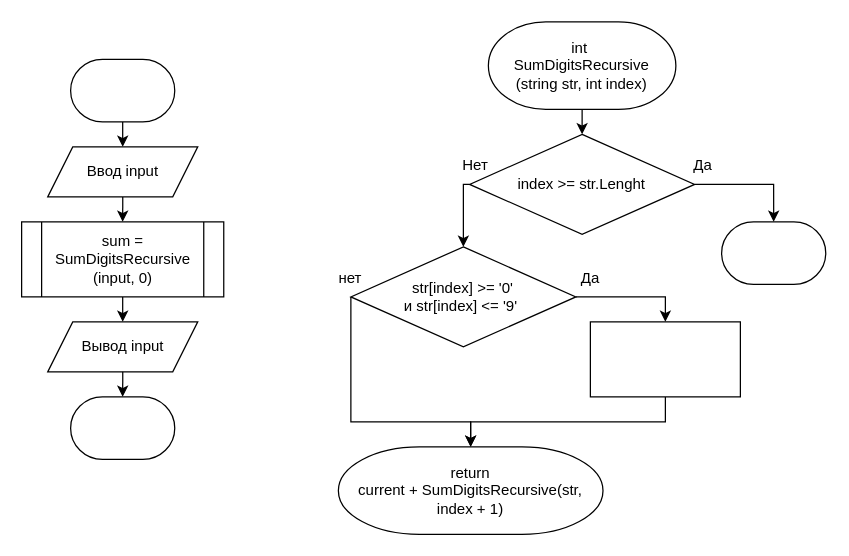
This 849x556 diagram has some shape labels left out. Here are the shapes that lost their labels. From the top down, the centre of each, then its label:
At pixel 122 90: "Начало".
At pixel 773 252: "return 0".
At pixel 664 359: "current = str[index] - '0'".
At pixel 122 427: "Конец".
